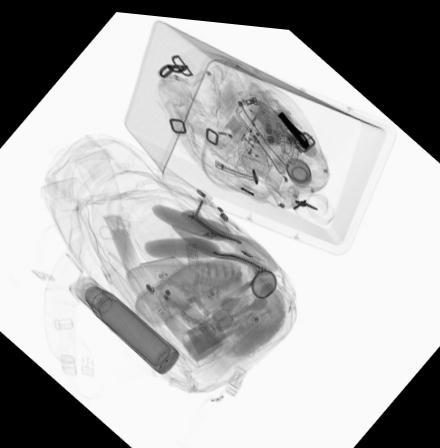Lighter: (241, 126, 263, 154)
